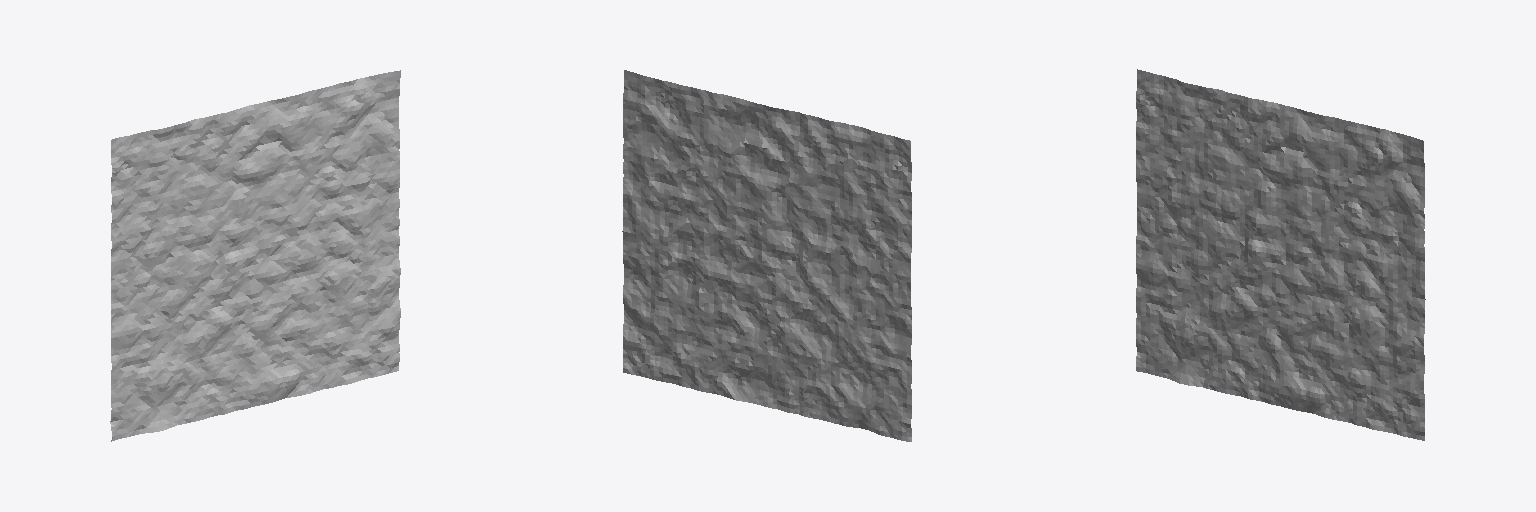
The model's file is Ground1.obj.
3 renders of one model, left to right at view 1: azimuth 30°, elevation 25°; view 2: azimuth 150°, elevation 25°; view 3: azimuth 330°, elevation 25°, orthographic.
Parts seen in each view (by area): view 1: Plane; view 2: Plane; view 3: Plane.
Boxes of the visible parts, x1=… form: Plane: x1=110, y1=70, x2=400, y2=441; Plane: x1=622, y1=70, x2=911, y2=441; Plane: x1=1136, y1=69, x2=1425, y2=440.
Bounding box in the file's own units: 800 × 800 × 15.16.